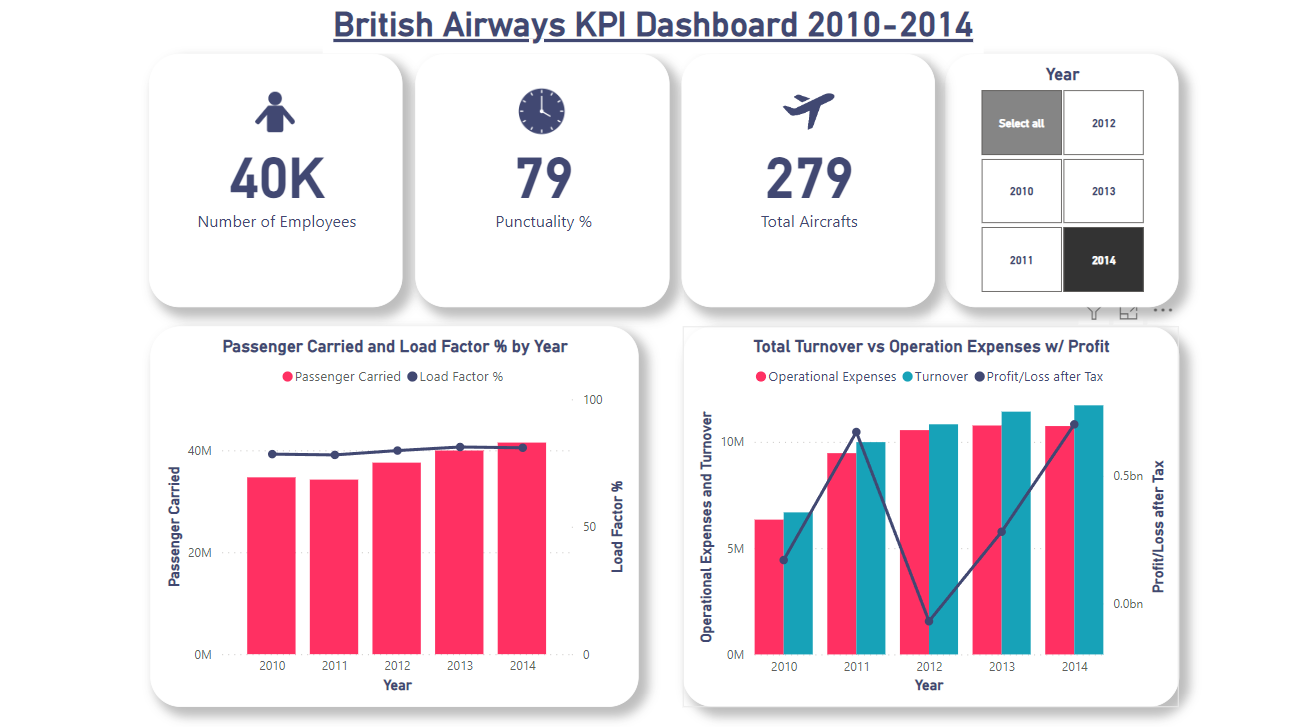

The dashboard page shown, as its layout file describes it:
{"tool":"powerbi","page":{"name":"Page 1","canvas":[1280,720],"ordinal":0},"visuals":[{"type":"lineClusteredColumnComboChart","title":"Total Turnover vs Operation Expenses w/ Profit","fields":{"Category":["Table 1 (Sheet1).Date.Variation.Date Hierarchy.Year"],"Y":["Sum(Table 1 (Sheet1).Total Operational Expenses )","Sum(Table 1 (Sheet1).Turnover(£million))"],"Y2":["Sum(Table 1 (Sheet1).Profit or Loss after Taxation(£million))"]},"box":[675,322.5,490,376.2],"z":0},{"type":"card","fields":{"Values":["Sum(Table 1 (Sheet1).Number of Employees)"]},"box":[148.3,53.1,250,250],"z":1000},{"type":"card","fields":{"Values":["Min(Table 1 (Sheet1).Punctuality%)"]},"box":[410.8,53.1,251.2,250],"z":2000},{"type":"lineStackedColumnComboChart","fields":{"Category":["Table 1 (Sheet1).Date.Variation.Date Hierarchy.Year"],"Y":["Sum(Table 1 (Sheet1).Pax Carried (000))"],"Y2":["Sum(Table 1 (Sheet1).Pax Load Factor)"]},"box":[148.8,322.8,482,376],"z":4000},{"type":"slicer","title":"Year","fields":{"Values":["Table 1 (Sheet1).Date.Variation.Date Hierarchy.Year"]},"box":[934.5,53.1,230,250],"z":5000},{"type":"card","fields":{"Values":["Sum(Table 1 (Sheet1).Aircrafts)"]},"box":[674.5,53.1,250,250],"z":6000},{"type":"textbox","box":[320,0,652.9,52.9],"z":7000},{"type":"image","box":[248.8,77.5,48.8,65],"z":8000},{"type":"image","box":[768.8,77.5,61.2,65],"z":9000},{"type":"image","box":[502.5,65,66.2,88.8],"z":10000}]}

Visuals, with their boxes in screenshot pixels (x1, y1, x2, y2), scaled from the page's 1280x720 canvas onto the 1293x727 screenshot:
"Total Turnover vs Operation Expenses w/ Profit" lineClusteredColumnComboChart: <box>682,326,1177,705</box>
card - Sum(Table 1 (Sheet1).Number of Employees): <box>150,54,402,306</box>
card - Min(Table 1 (Sheet1).Punctuality%): <box>415,54,669,306</box>
lineStackedColumnComboChart - Table 1 (Sheet1).Date.Variation.Date Hierarchy.Year x Sum(Table 1 (Sheet1).Pax Carried (000)): <box>150,326,637,706</box>
"Year" slicer: <box>944,54,1176,306</box>
card - Sum(Table 1 (Sheet1).Aircrafts): <box>681,54,934,306</box>
textbox: <box>323,0,983,53</box>
image: <box>251,78,301,144</box>
image: <box>777,78,838,144</box>
image: <box>508,66,574,155</box>
